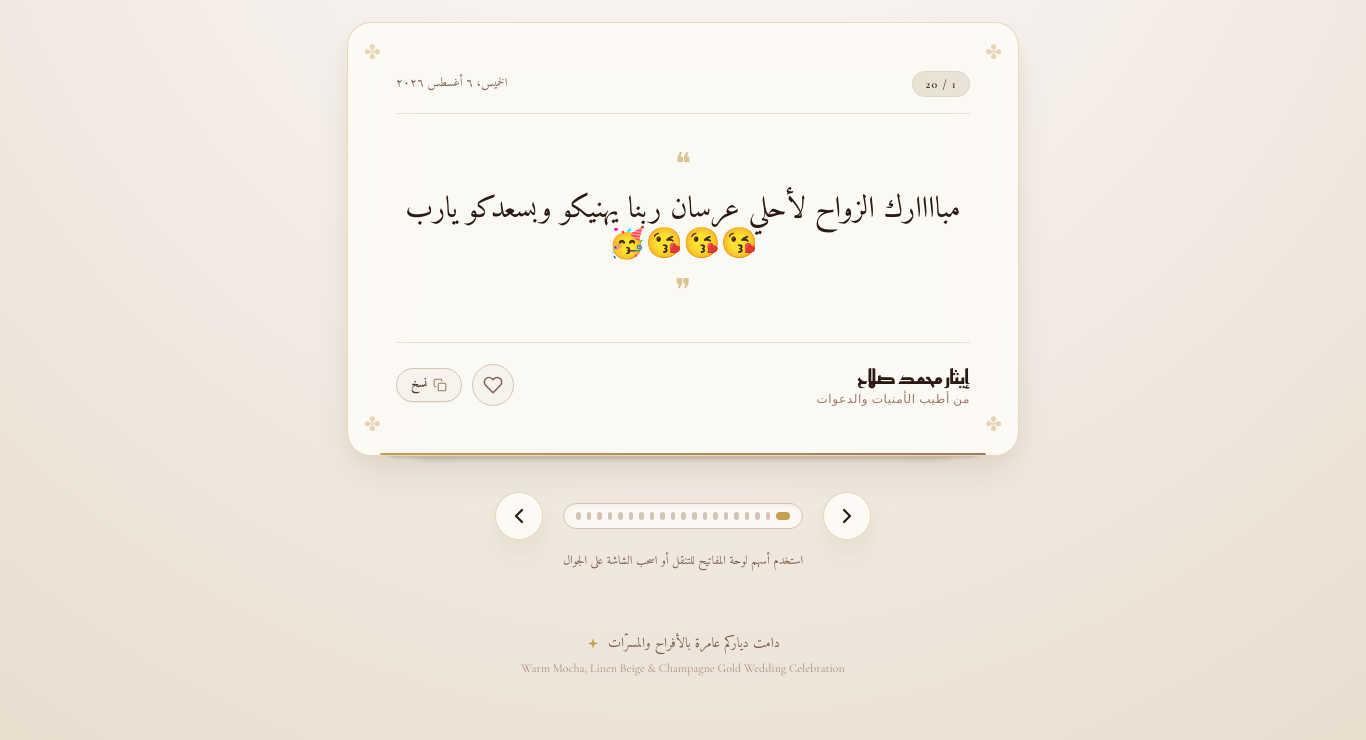
it: App component › navigates through wishes when next button is clicked
(page scrolled)
Check: the text "1 / 20" is shown, box [912,71,970,97]
Click the button named "التالي" at (519, 516), box [495,492,543,540]
(page scrolled)
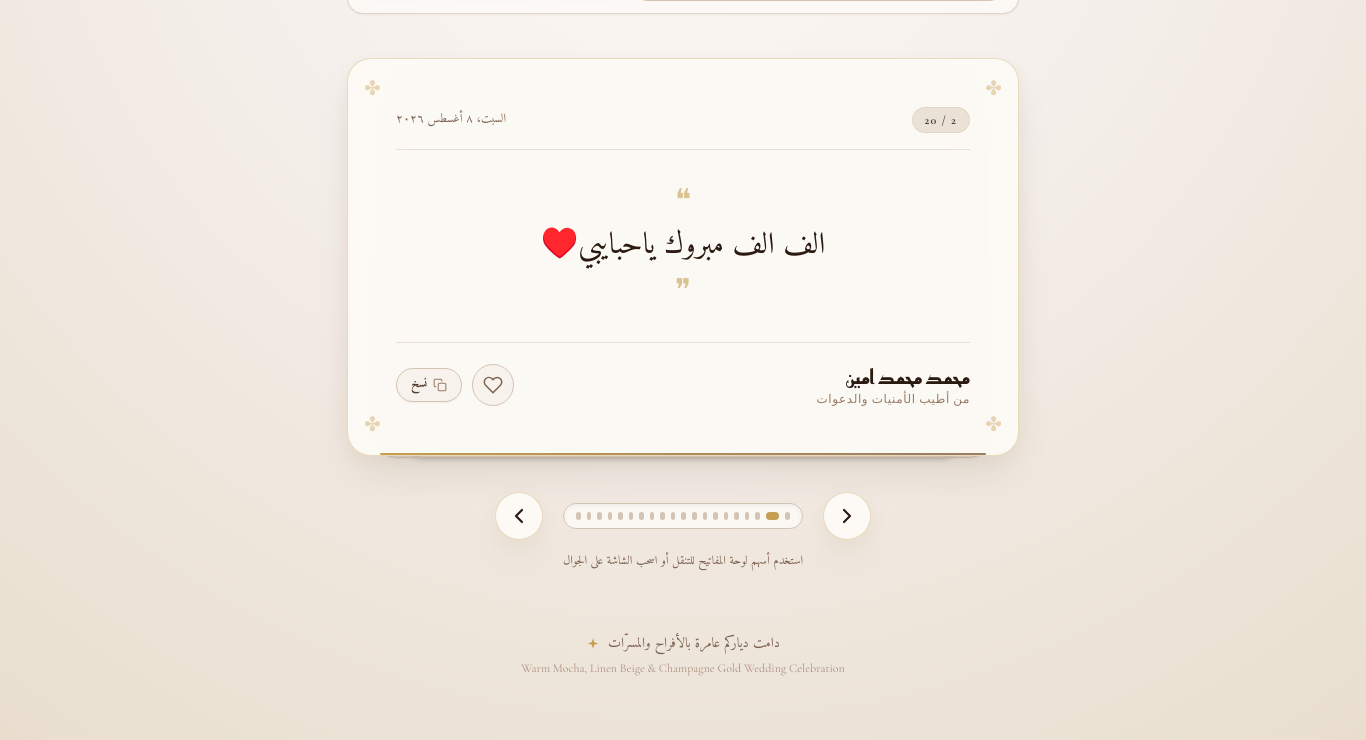
Check: the text "2 / 20" is shown, box [912,107,970,133]
